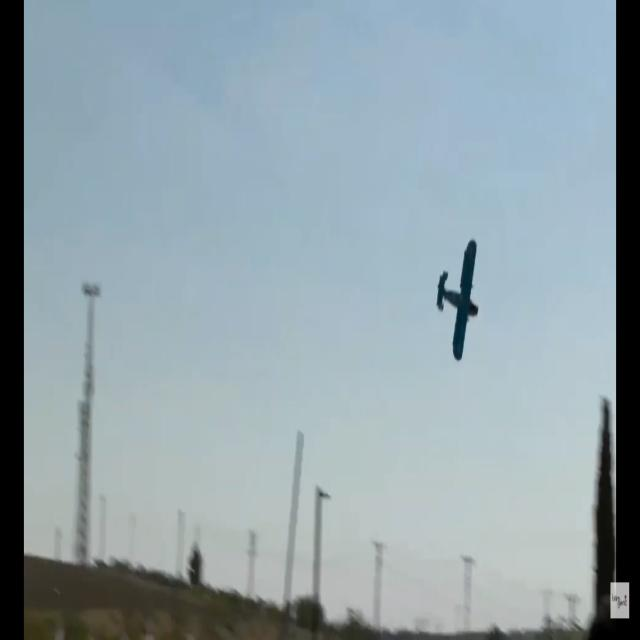iha: (423, 231, 476, 364)
